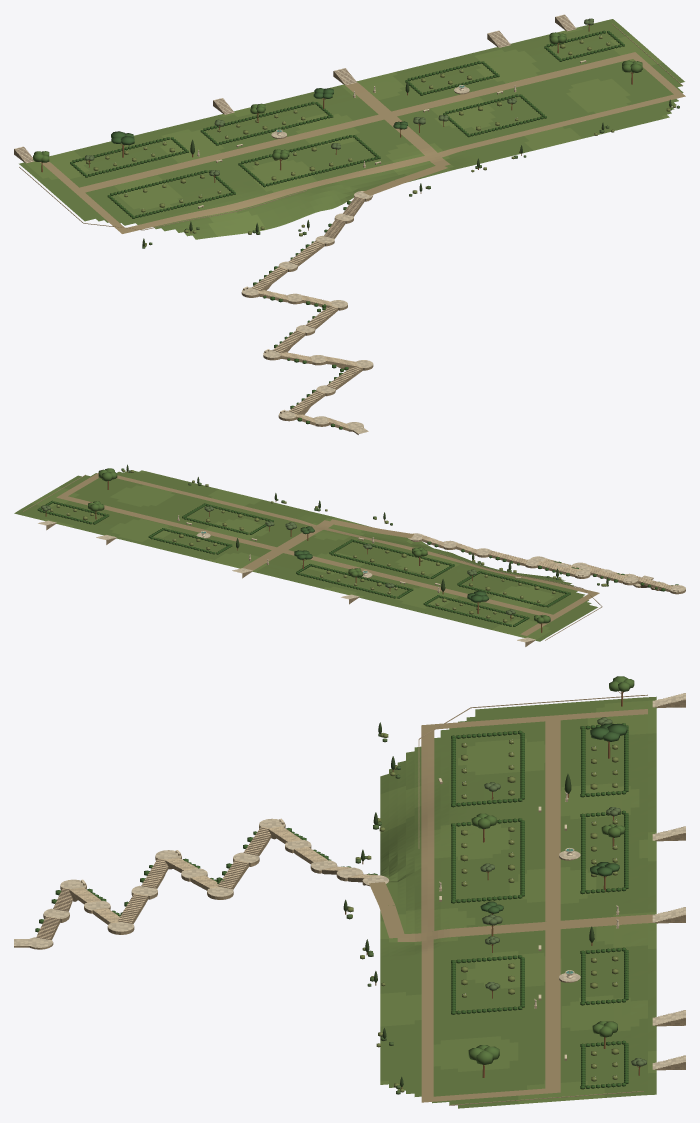
File: oppian_court.glb
3 renders of one model, top to bottom at view 1: azimuth 30°, elevation 25°; view 2: azimuth 150°, elevation 25°; view 3: azimuth 270°, elevation 25°, orthographic. The views are drawn at different scales.
Parts seen in each view (by area): view 1: court_paths-gardens-stairs; view 2: court_paths-gardens-stairs; view 3: court_paths-gardens-stairs.
Boxes of the visible parts, x1,y1,x2,y2 form: court_paths-gardens-stairs: (14, 14, 685, 434); court_paths-gardens-stairs: (14, 464, 685, 646); court_paths-gardens-stairs: (14, 676, 685, 1108).
Size of the model in its own units: 219 by 51.74 by 156.
Materials: 20 (5 with a texture image).
